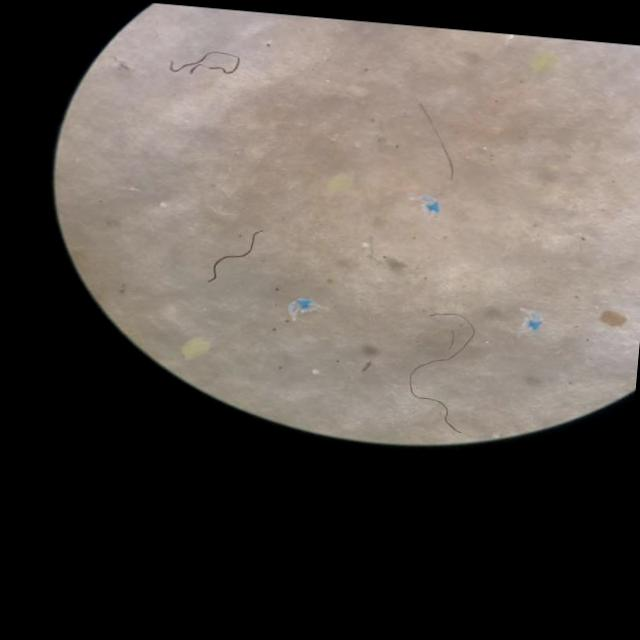fiber: (408, 314, 474, 433), (208, 231, 258, 282), (418, 105, 452, 179), (168, 50, 238, 75)
film: (288, 299, 313, 318), (522, 311, 541, 332), (418, 197, 438, 214)
fragment: (181, 338, 208, 357), (530, 52, 555, 71), (327, 174, 350, 193), (600, 310, 624, 327)
pellet: (361, 242, 368, 247), (311, 369, 317, 374), (160, 203, 165, 207)
